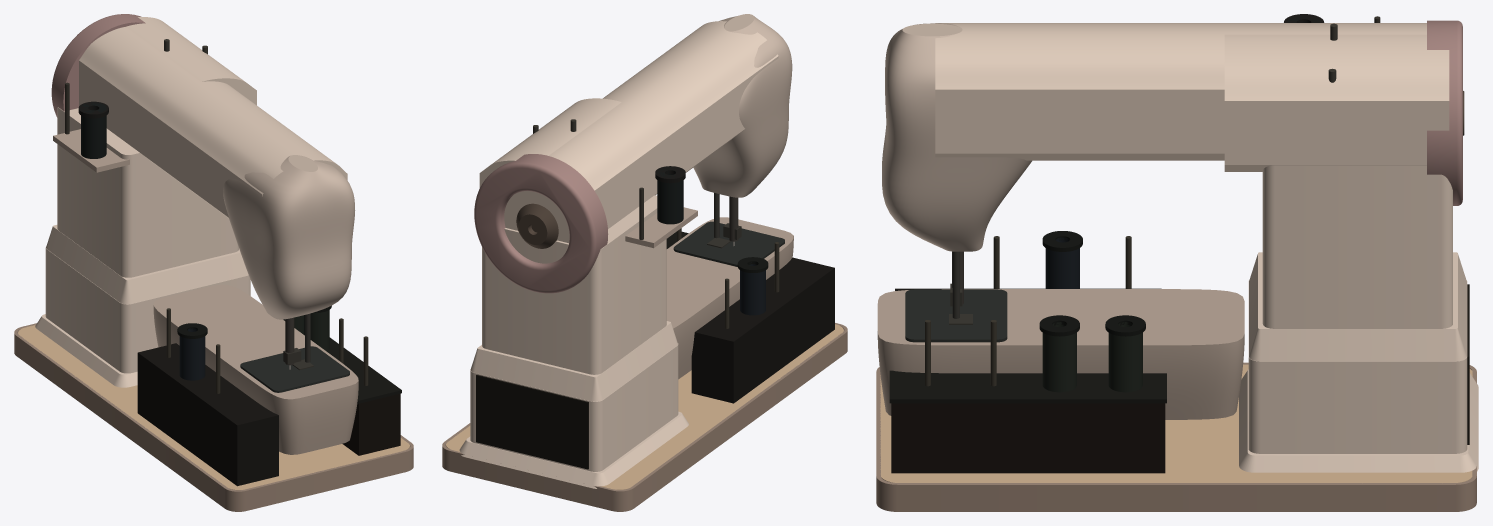
File: sewing_machine__4f6c74f9f904.glb
3 views of the same model, side by side, from view 1: azimuth 30°, elevation 25°; view 2: azimuth 150°, elevation 25°; view 3: azimuth 270°, elevation 25° (orthographic). The views are drawn at different scales.
Visible parts, largest first — view 1: foot, arm_casting, nose, bed, border, bed_side_case, inset, side_lid, needle_plate, accessory_case, wheel, lid (+4 smaller); view 2: foot, arm_casting, wheel, border, nose, bed_side_case, access_panel, bed, inset, side_lid, needle_plate, hub (+4 smaller); view 3: arm_casting, foot, bed, accessory_case, border, nose, inset, lid, needle_plate, wheel, spool.002, spool.001 (+4 smaller).
Boxes of the visible parts, x1,y1,x2,y2 form: foot: (35, 107, 250, 387); arm_casting: (79, 17, 347, 218); nose: (223, 155, 355, 319); bed: (153, 284, 358, 454); border: (14, 323, 413, 511); bed_side_case: (137, 358, 278, 486); inset: (18, 325, 409, 490); side_lid: (137, 343, 278, 430); needle_plate: (240, 346, 349, 392); accessory_case: (342, 393, 400, 455); wheel: (51, 14, 145, 117); lid: (303, 333, 401, 403); foot: (459, 195, 688, 488); arm_casting: (479, 21, 778, 243); wheel: (474, 154, 608, 293); border: (442, 323, 847, 511); nose: (693, 14, 792, 197); bed_side_case: (691, 273, 834, 403); access_panel: (476, 375, 588, 469); bed: (666, 217, 793, 379); inset: (446, 324, 843, 489); side_lid: (694, 257, 834, 346); needle_plate: (673, 221, 784, 266); hub: (516, 203, 558, 248); arm_casting: (935, 23, 1449, 171); foot: (1239, 165, 1478, 472); bed: (877, 289, 1244, 419); accessory_case: (891, 403, 1165, 473); border: (876, 362, 1476, 511); nose: (882, 23, 1031, 251); inset: (880, 364, 1472, 482); lid: (889, 370, 1166, 403); needle_plate: (905, 289, 1007, 342); wheel: (1427, 20, 1462, 205); spool.002: (1108, 322, 1142, 392); spool.001: (1042, 322, 1076, 392).
Size of the model in its own units: 0.1928 by 0.319 by 0.4019.
